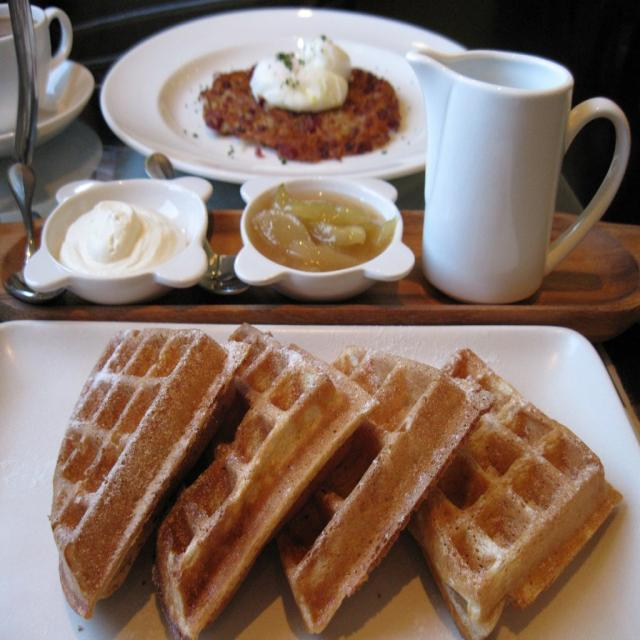Waffle: (148, 317, 380, 639), (275, 343, 495, 639), (411, 341, 627, 639), (47, 329, 252, 617)
